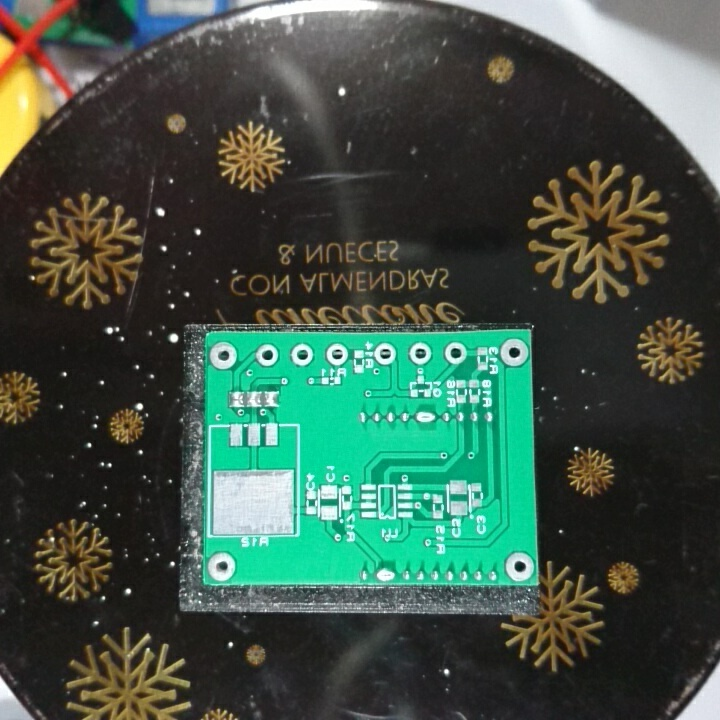F: (502, 550, 536, 583), (207, 340, 240, 372), (207, 549, 239, 582), (498, 337, 527, 369), (253, 342, 283, 369), (407, 340, 435, 367), (442, 340, 469, 366), (290, 343, 316, 369), (323, 341, 349, 366), (373, 342, 399, 366)
P: (413, 408, 439, 428), (373, 564, 396, 584)
